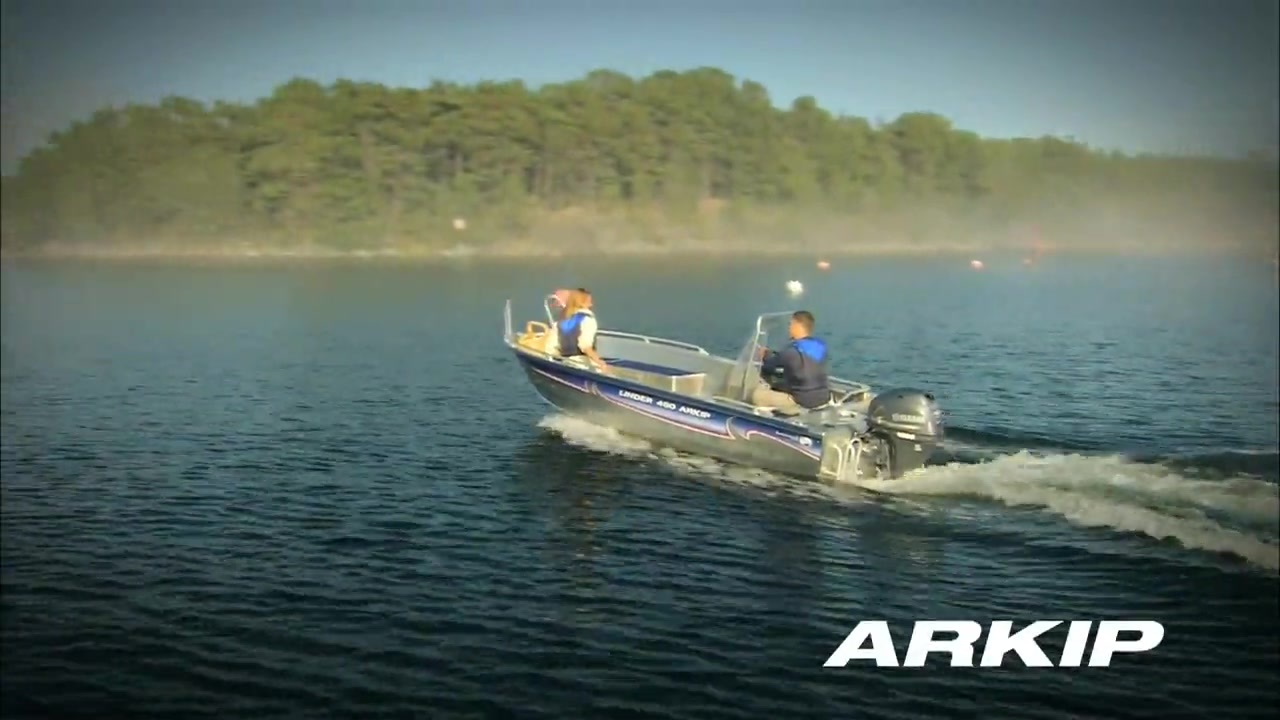boat: (500, 296, 948, 494)
